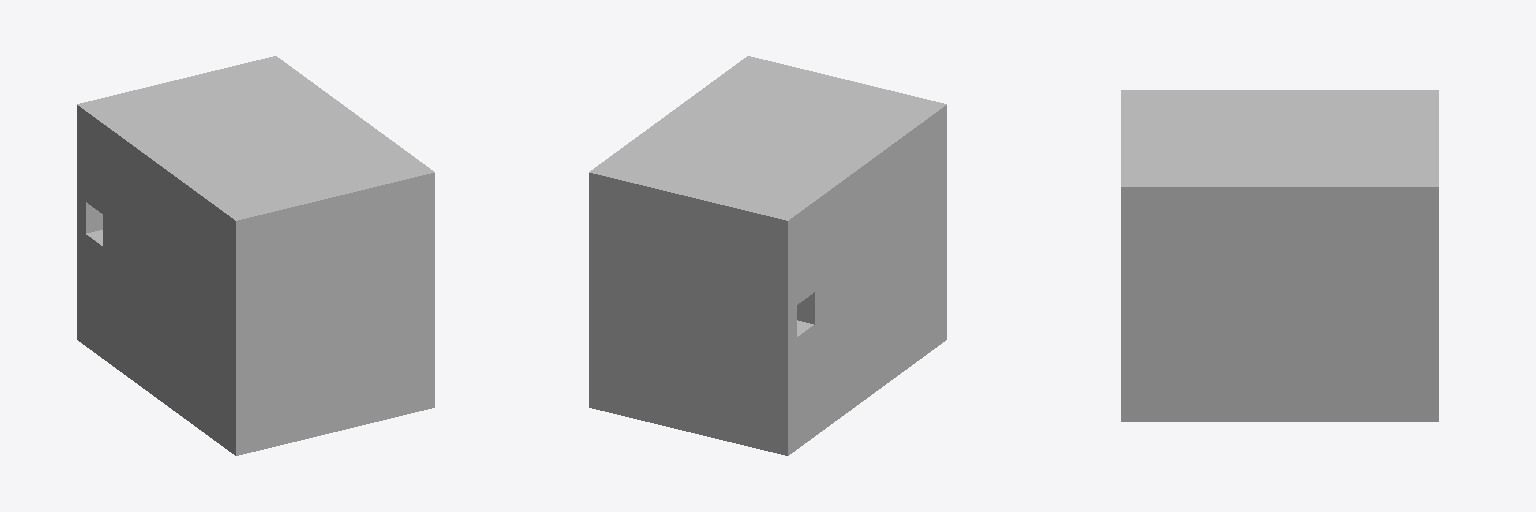
File: infinite staircase.obj
3 views of the same model, side by side, from view 1: azimuth 30°, elevation 25°; view 2: azimuth 150°, elevation 25°; view 3: azimuth 270°, elevation 25° (orthographic).
Parts seen in each view (by area): view 1: cuboid, plane; view 2: cuboid, plane; view 3: cuboid.
Boxes of the visible parts, box(x1,y1,x2,y2) form: cuboid: box(77, 56, 434, 455); plane: box(83, 195, 158, 318); cuboid: box(589, 56, 946, 455); plane: box(794, 284, 870, 370); cuboid: box(1121, 90, 1438, 421).
Bounding box in the file's own units: 2.44 × 2.75 × 3.38.